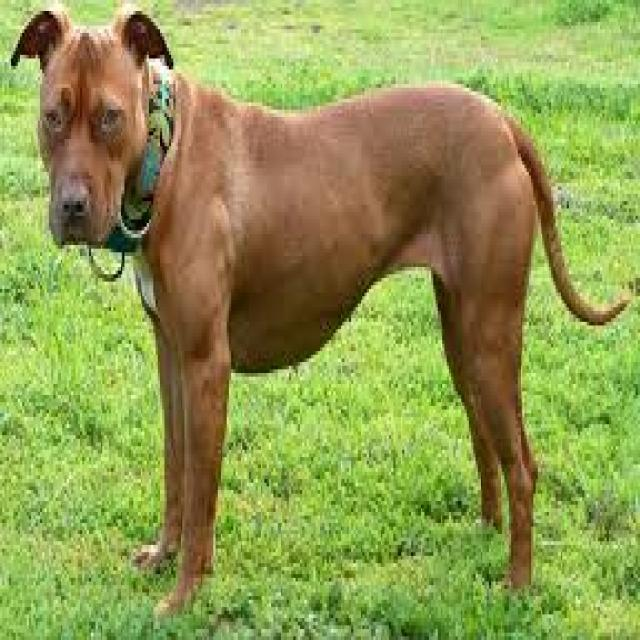dog: (9, 0, 633, 632)
